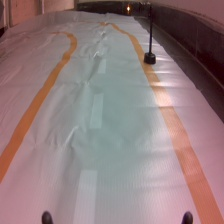yellow: (123, 1, 158, 66)
